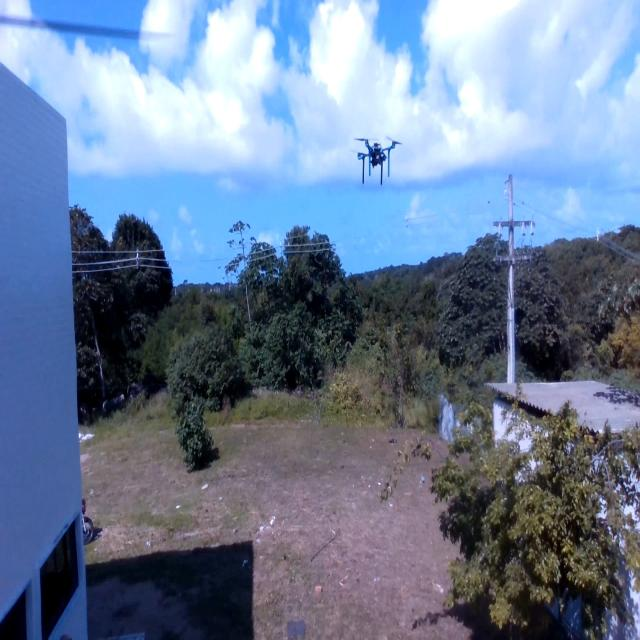-uav-: (344, 115, 412, 198)
